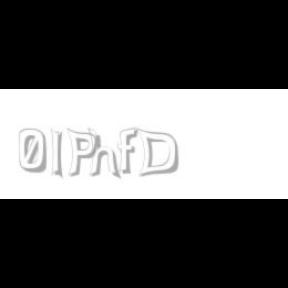0: (18, 128, 50, 174)
D: (135, 128, 178, 178)
P: (66, 128, 98, 178)
f: (118, 128, 142, 174)
h: (88, 128, 122, 180)
l: (51, 128, 67, 180)
